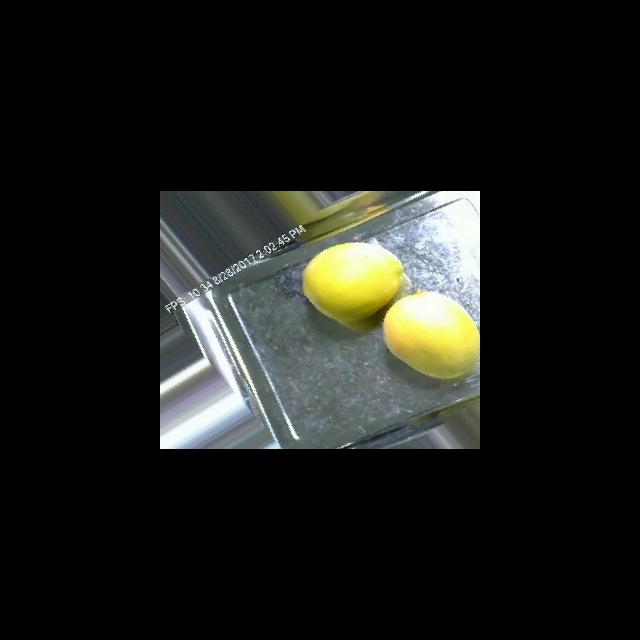mango: (382, 290, 479, 379), (301, 241, 404, 322)
